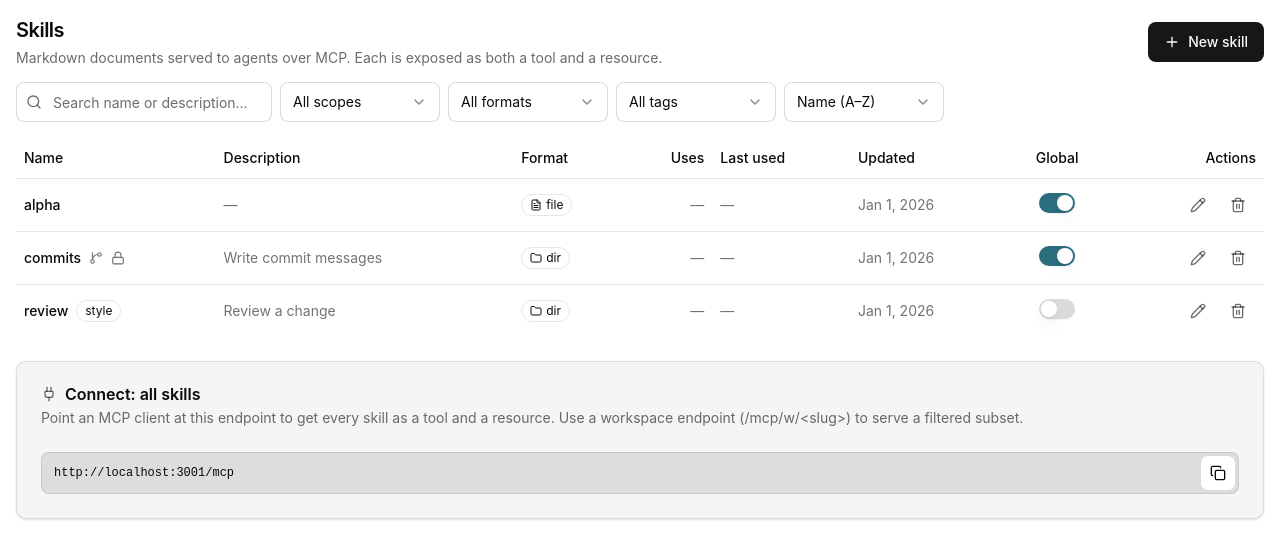
Test: the skills page › narrows the list as the search is typed, and clears every filter at once
Expected: the heading "Skills" is shown, [16,16,64,44]
Type "commit" into the search field named "Search skills" at (144, 102), box [16,82,272,122]
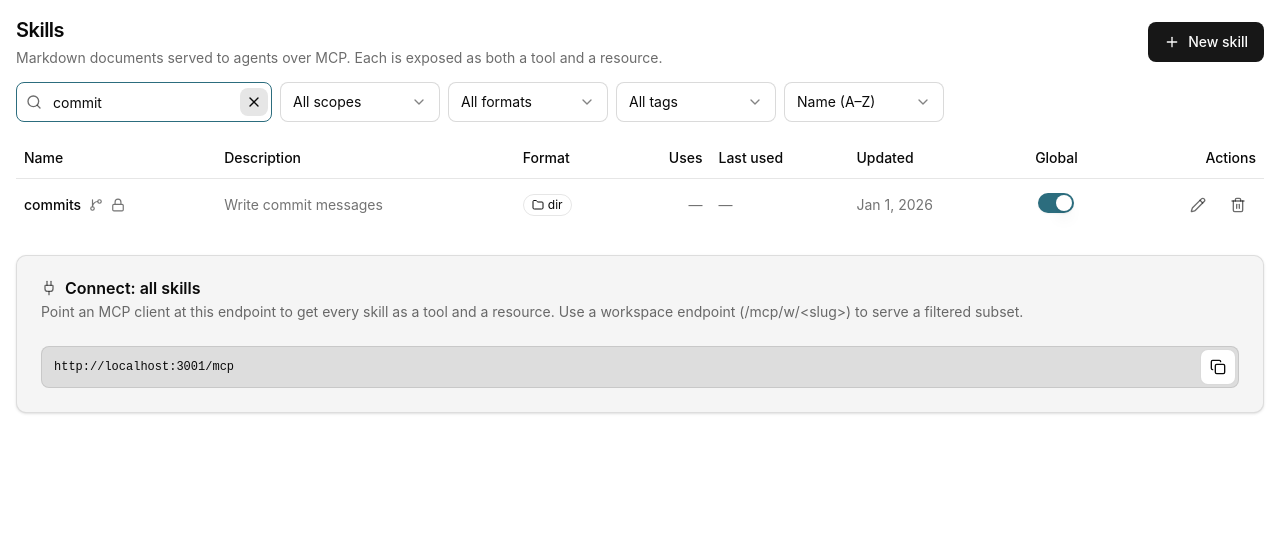
Type "zzz" into the search field named "Search skills" at (144, 102), box [16,82,272,122]
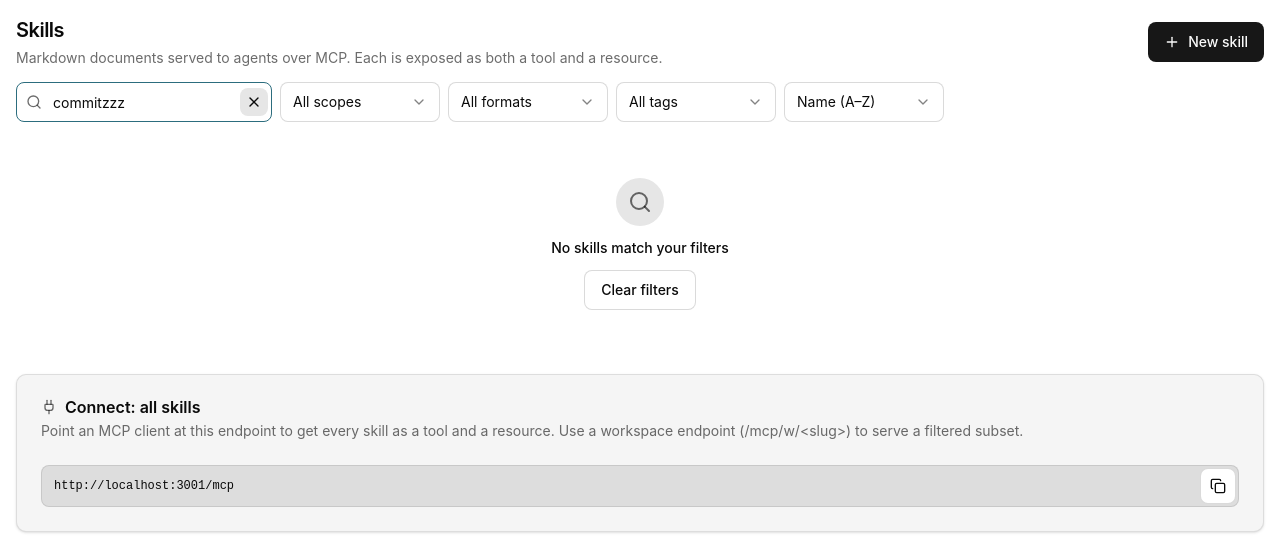
Expected: the text "No skills match your filters" is shown, [551,238,729,258]
Click the button "Clear filters" at (640, 290), box [584,270,696,310]
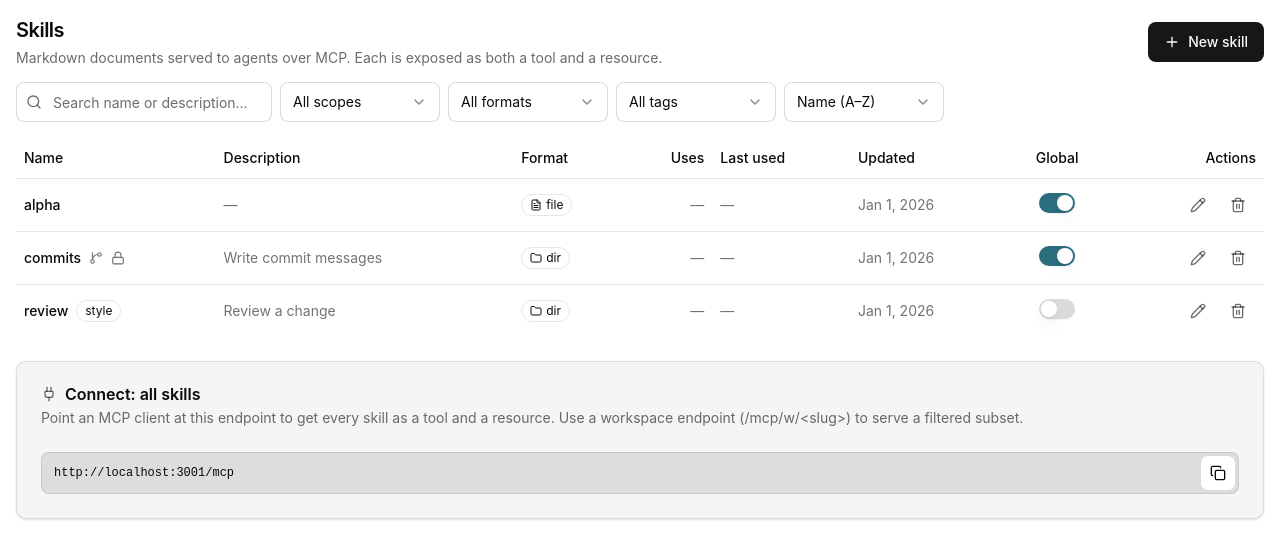
Expected: the search field named "Search skills" is empty, [16,82,272,122]
